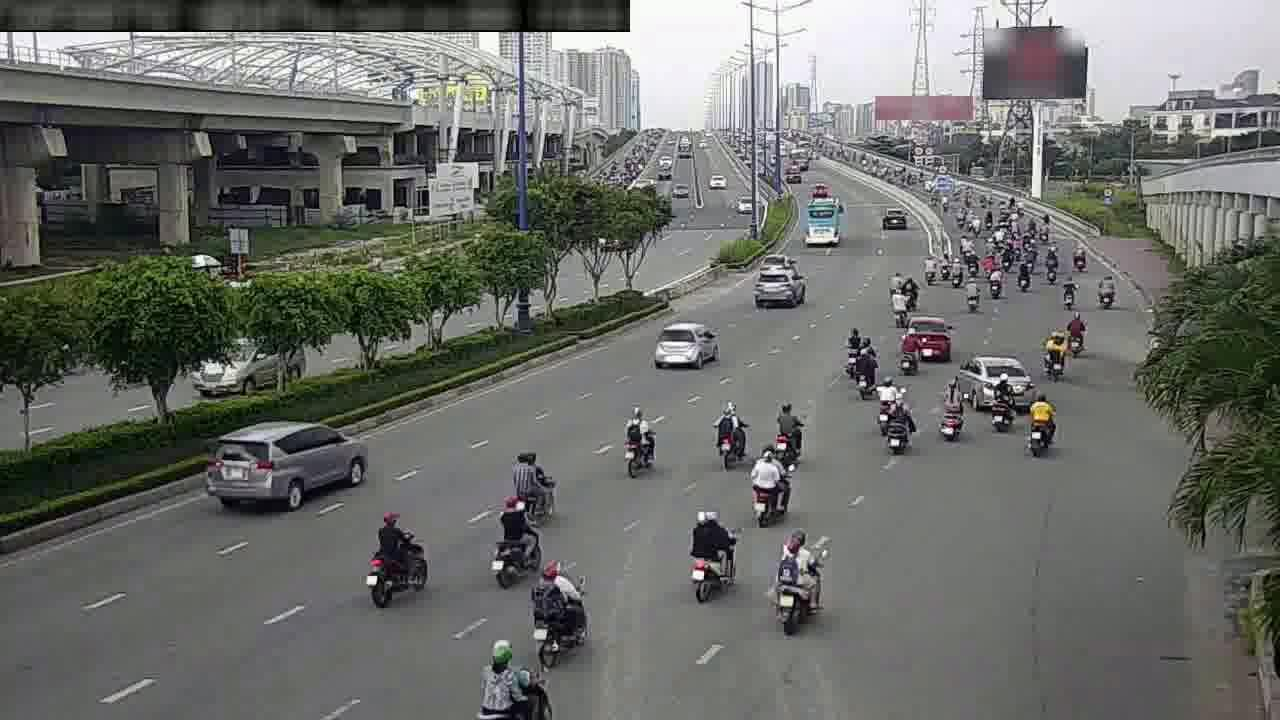14: (797, 198, 846, 246)
container: (208, 418, 365, 508), (961, 347, 1028, 401), (652, 319, 714, 370), (906, 313, 955, 360), (756, 263, 805, 308)
motorbike: (360, 508, 429, 601), (533, 564, 588, 663), (687, 503, 736, 601), (772, 534, 819, 632), (490, 500, 538, 583), (507, 446, 556, 519), (750, 448, 791, 522), (616, 406, 657, 477), (713, 402, 749, 468), (768, 401, 804, 463), (1023, 391, 1059, 453), (879, 394, 912, 455), (985, 377, 1018, 432), (936, 386, 967, 441), (1038, 330, 1068, 376), (870, 380, 898, 429), (893, 332, 920, 376), (1061, 313, 1088, 353), (1092, 272, 1118, 312), (855, 352, 878, 397), (885, 283, 908, 324), (960, 275, 983, 313), (1055, 274, 1078, 311), (844, 328, 862, 372), (985, 266, 1006, 300), (1013, 258, 1033, 293), (901, 275, 922, 308), (944, 256, 964, 289), (923, 252, 942, 282)
